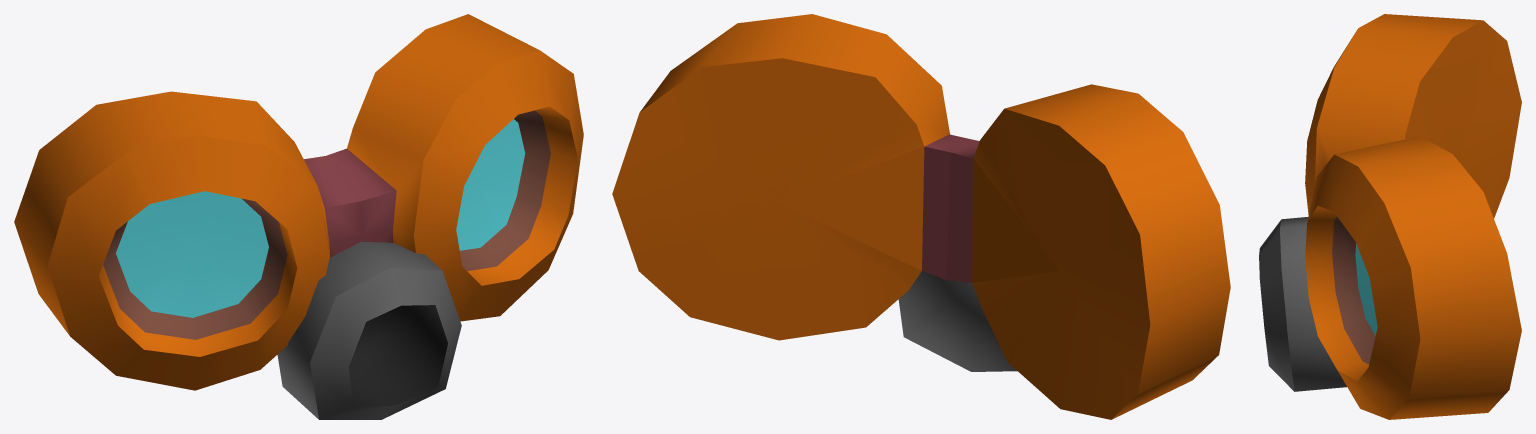
Rendered from Eyewear_4.fbx.
3 views of the same model, side by side, from view 1: azimuth 30°, elevation 25°; view 2: azimuth 150°, elevation 25°; view 3: azimuth 270°, elevation 25° (orthographic). The views are drawn at different scales.
Parts seen in each view (by area): view 1: Eyewear_4; view 2: Eyewear_4; view 3: Eyewear_4.
Boxes of the visible parts, box(x1,y1,x2,y2) form: Eyewear_4: box(14, 14, 583, 419); Eyewear_4: box(612, 14, 1230, 419); Eyewear_4: box(1259, 14, 1521, 419).
Bounding box in the file's own units: 48.77 × 25.96 × 21.94.
